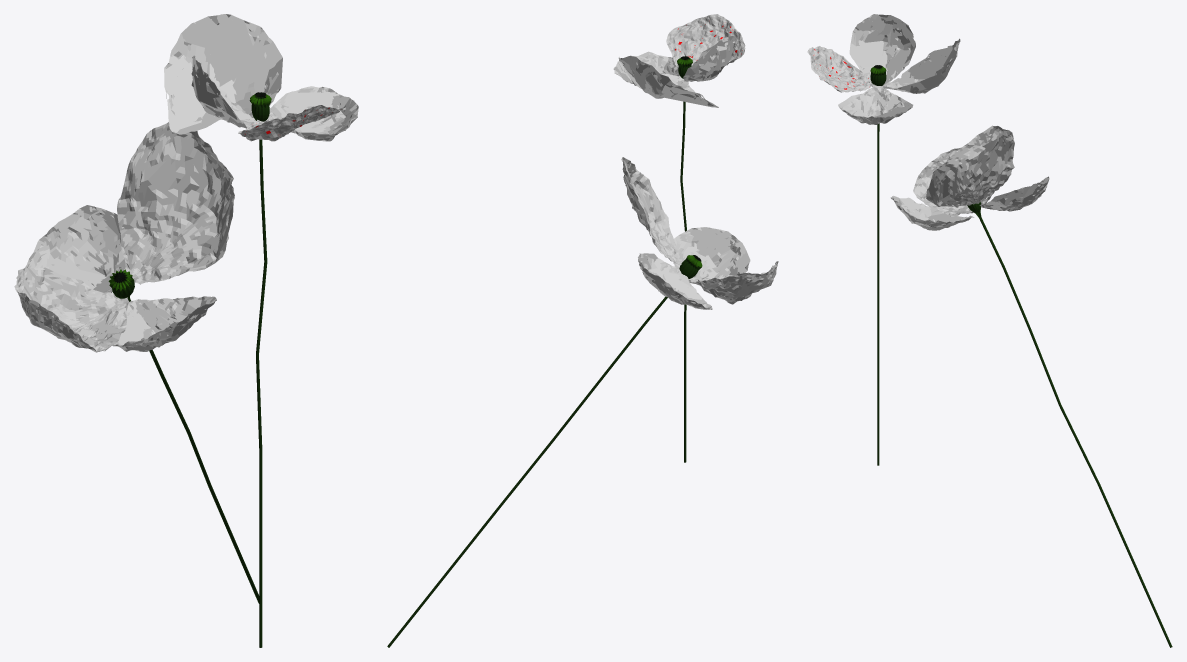
Rendered from poppies-med-low.obj.
3 renders of one model, left to right at view 1: azimuth 30°, elevation 25°; view 2: azimuth 150°, elevation 25°; view 3: azimuth 270°, elevation 25°, orthographic. The views are drawn at different scales.
Visible parts, largest first — view 1: Plane.004, object 19, Plane.007, Plane.006, Plane.005, Plane.001, Sphere, Sphere.001, Plane.002, Plane.003; view 2: Plane.005, Plane.004, Plane.003, object 19, Plane.006, Sphere.001, Plane.007, Plane.002, Sphere, Plane.001; view 3: Plane.004, Plane.002, object 19, Plane.001, Plane.003, Sphere.001, Sphere, Plane.005, Plane.007, Plane.006.
Boxes of the visible parts, x1,y1,x2,y2 form: Plane.004: (117,122,234,284); object 19: (164,14,282,134); Plane.007: (14,267,128,352); Plane.006: (25,205,125,305); Plane.005: (112,296,216,351); Plane.001: (268,86,358,141); Sphere: (249,92,271,647); Sphere.001: (108,269,259,603); Plane.002: (191,55,254,128); Plane.003: (238,105,345,141); Plane.005: (673,227,750,285); Plane.004: (621,157,682,267); Plane.003: (666,14,745,67); object 19: (618,55,718,107); Plane.006: (638,253,712,309); Sphere.001: (387,255,702,647); Plane.007: (688,261,778,304); Plane.002: (683,36,738,81); Sphere: (677,56,692,462); Plane.001: (613,51,679,83); Plane.004: (926,125,1014,207); Plane.002: (849,14,915,85); object 19: (882,38,960,93); Plane.001: (838,85,912,124); Plane.003: (807,46,874,92); Sphere.001: (967,202,1172,647); Sphere: (870,65,886,465); Plane.005: (890,196,973,230); Plane.007: (913,148,994,215); Plane.006: (979,176,1049,211).
Bounding box in the file's own units: 13.21 × 24.71 × 15.09.
